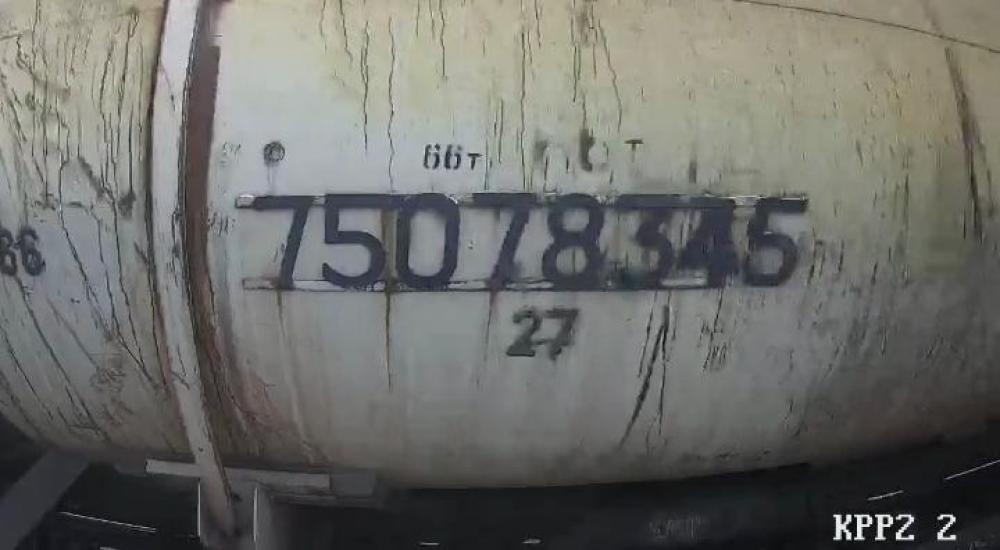Wagon-number: (251, 188, 808, 294)
